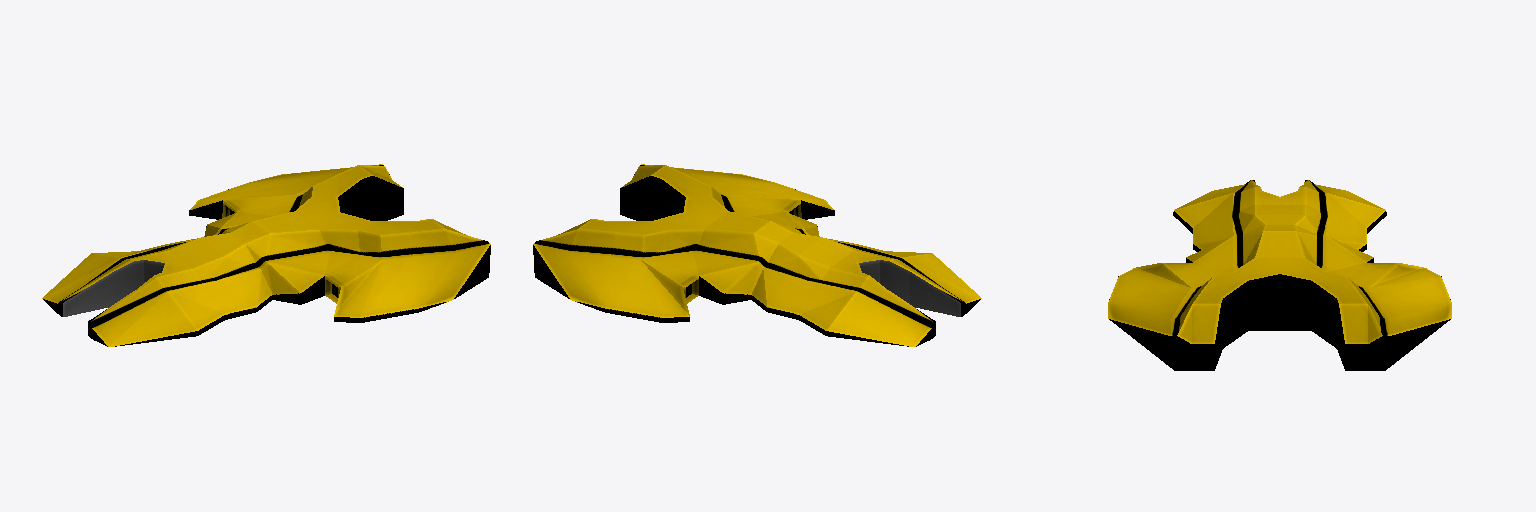
The picture shows the model from 3 angles: view 1: azimuth 30°, elevation 25°; view 2: azimuth 150°, elevation 25°; view 3: azimuth 270°, elevation 25°; orthographic projection.
Parts seen in each view (by area): view 1: Cube.001; view 2: Cube.001; view 3: Cube.001.
Part boxes in pixels (x1,y1,x2,y2): Cube.001: (42, 164, 490, 346); Cube.001: (533, 164, 981, 346); Cube.001: (1108, 180, 1451, 370).
Size of the model in its own units: 13.55 by 1.96 by 11.16.
Materials: 1 (1 with a texture image).